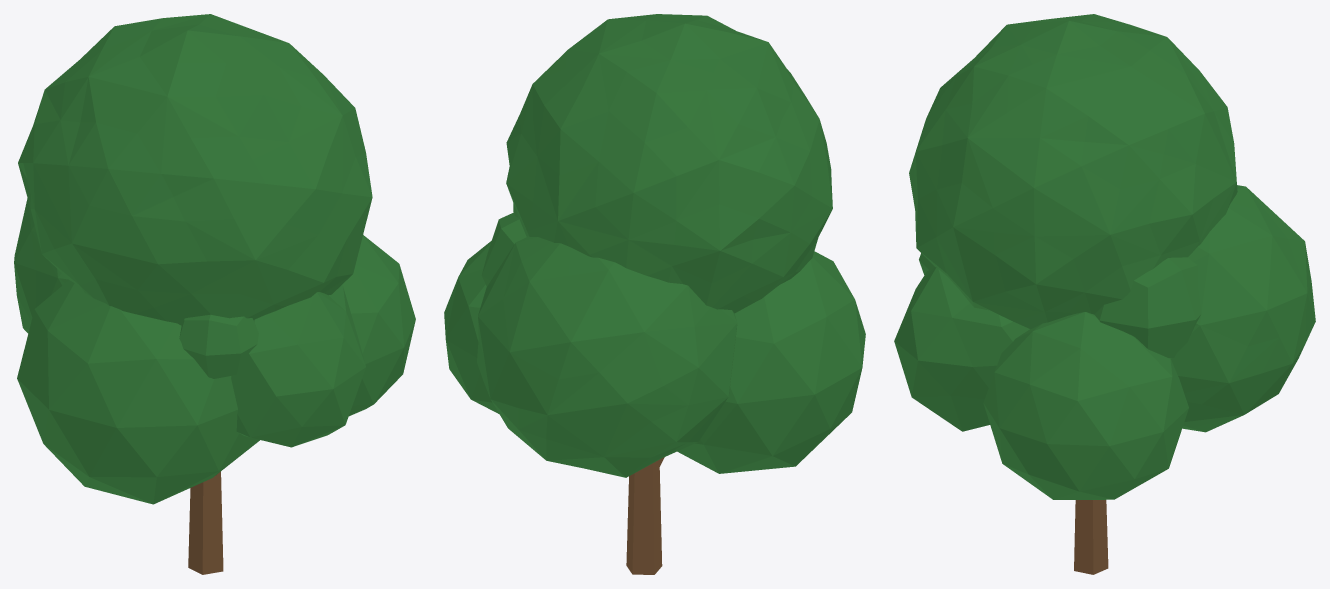
File: tree-lime.glb
3 views of the same model, side by side, from view 1: azimuth 30°, elevation 25°; view 2: azimuth 150°, elevation 25°; view 3: azimuth 270°, elevation 25° (orthographic). The views are drawn at different scales.
Visible parts, largest first — view 1: tree-lime; view 2: tree-lime; view 3: tree-lime.
Part boxes in pixels (bbox=[...]): tree-lime: bbox=[14, 14, 415, 574]; tree-lime: bbox=[444, 14, 865, 574]; tree-lime: bbox=[894, 14, 1315, 574].
Size of the model in its own units: 4.71 by 6.49 by 4.66.
Materials: 1 (1 with a texture image).
